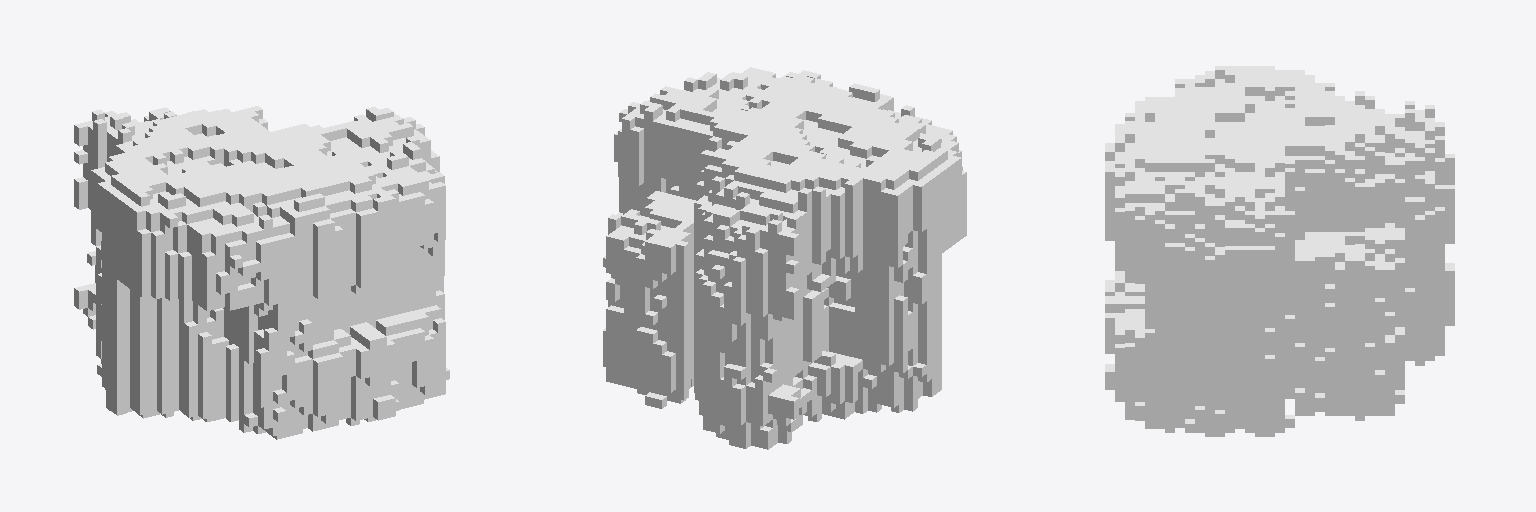
File: CatapultRock.obj
3 renders of one model, left to right at view 1: azimuth 30°, elevation 25°; view 2: azimuth 150°, elevation 25°; view 3: azimuth 270°, elevation 25°, orthographic.
Visible parts, largest first — view 1: object 1; view 2: object 1; view 3: object 1.
Part boxes in pixels (bbox=[...]): object 1: bbox=[74, 106, 449, 439]; object 1: bbox=[603, 67, 966, 449]; object 1: bbox=[1105, 66, 1454, 436].
Size of the model in its own units: 3.6 by 2.6 by 3.5.